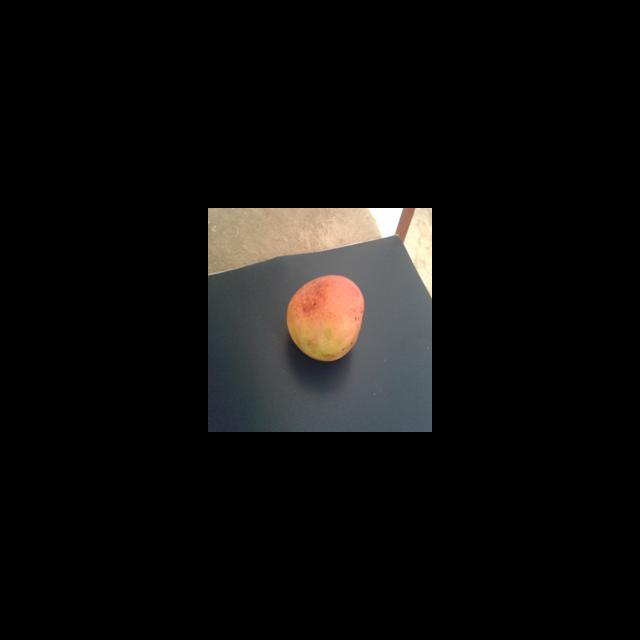Mango: (285, 274, 365, 362)
